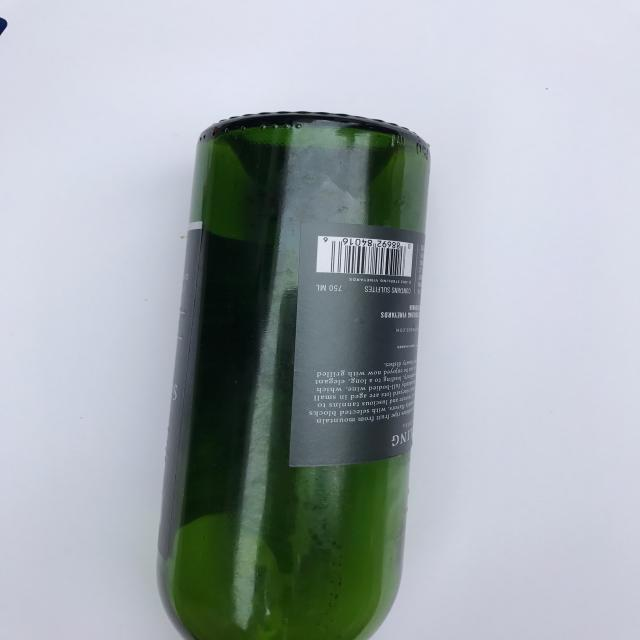Glass: (147, 100, 441, 640)
